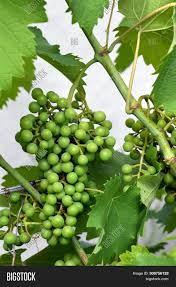grapes: (16, 82, 117, 246)
